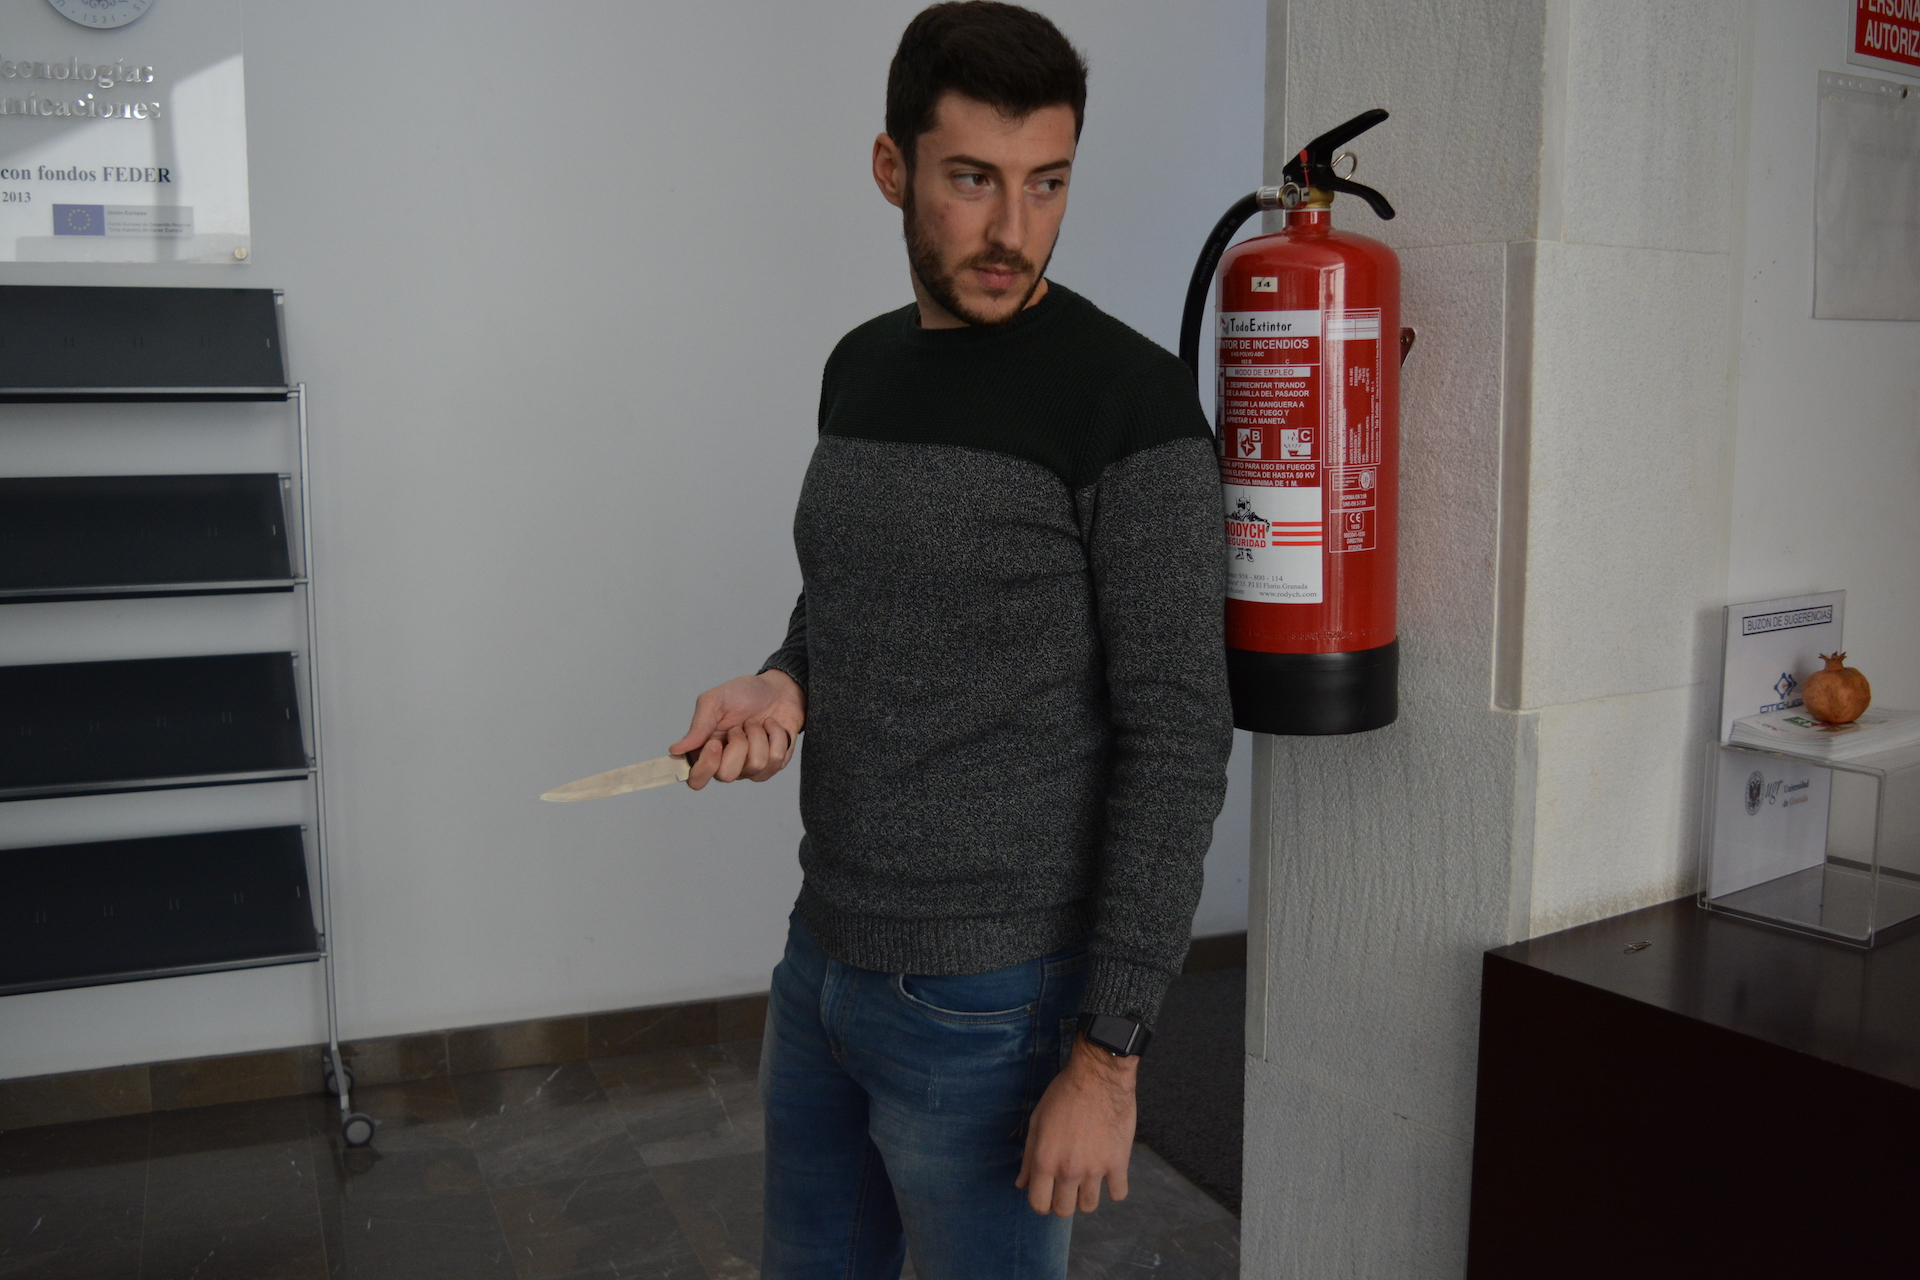knife: (529, 729, 731, 813)
